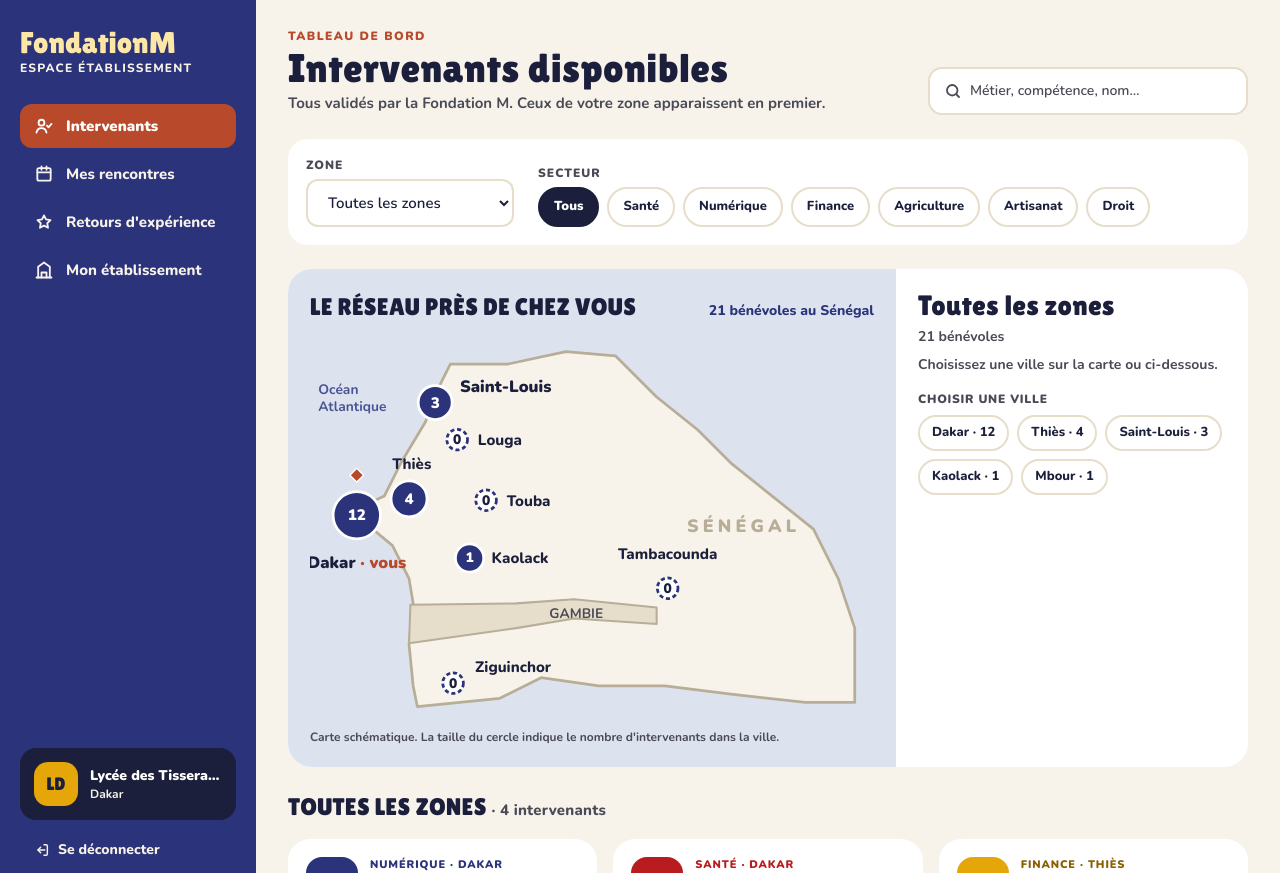
Test: Intervenants disponibles › n’a plus de filtre « Format » et ignore ?format= (aucune requête n’envoie format)
Check: the heading "Toutes les zones · 4 intervenants" is shown, box [288, 793, 606, 820]
What coordinates should you click on to do the following:
click the button "Finance"
I would click on:
 (830, 206)
Its box is [791, 186, 870, 226].
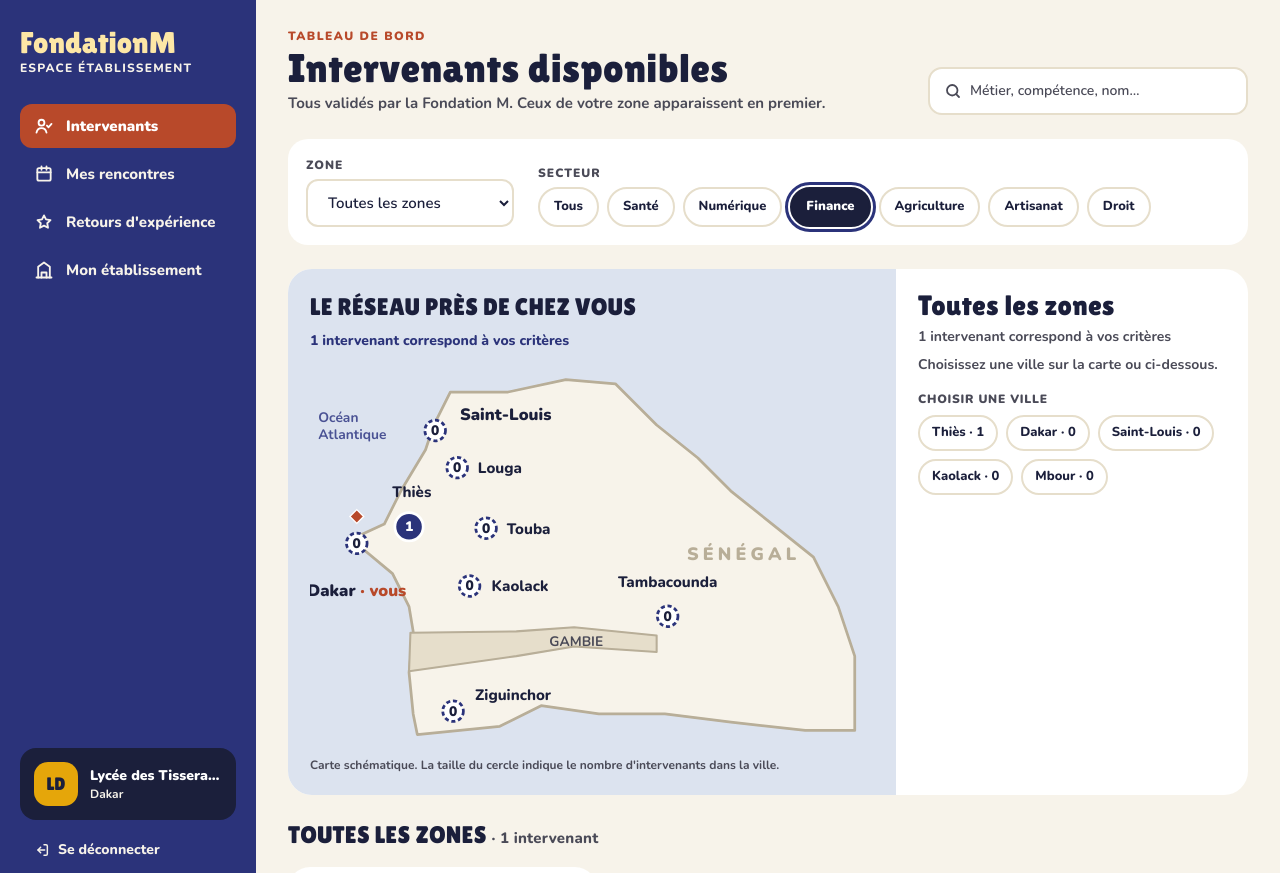
Check: the heading "Toutes les zones · 1 intervenant" is shown, box [288, 821, 598, 848]
